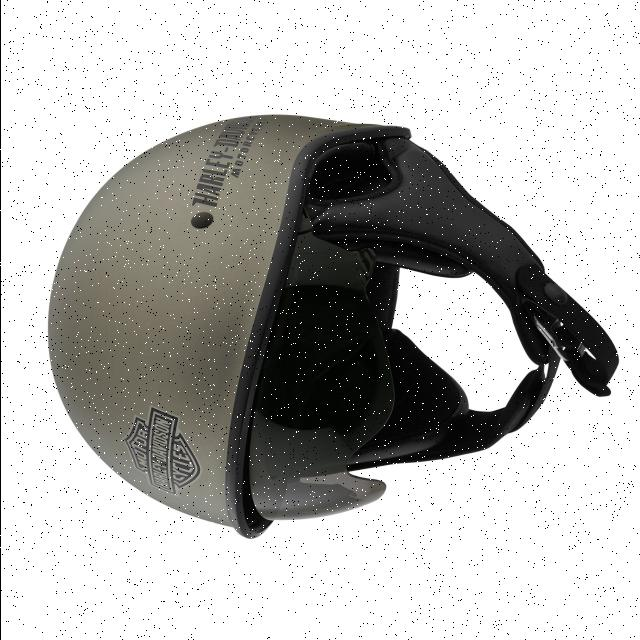Helmet: (27, 108, 628, 578)
